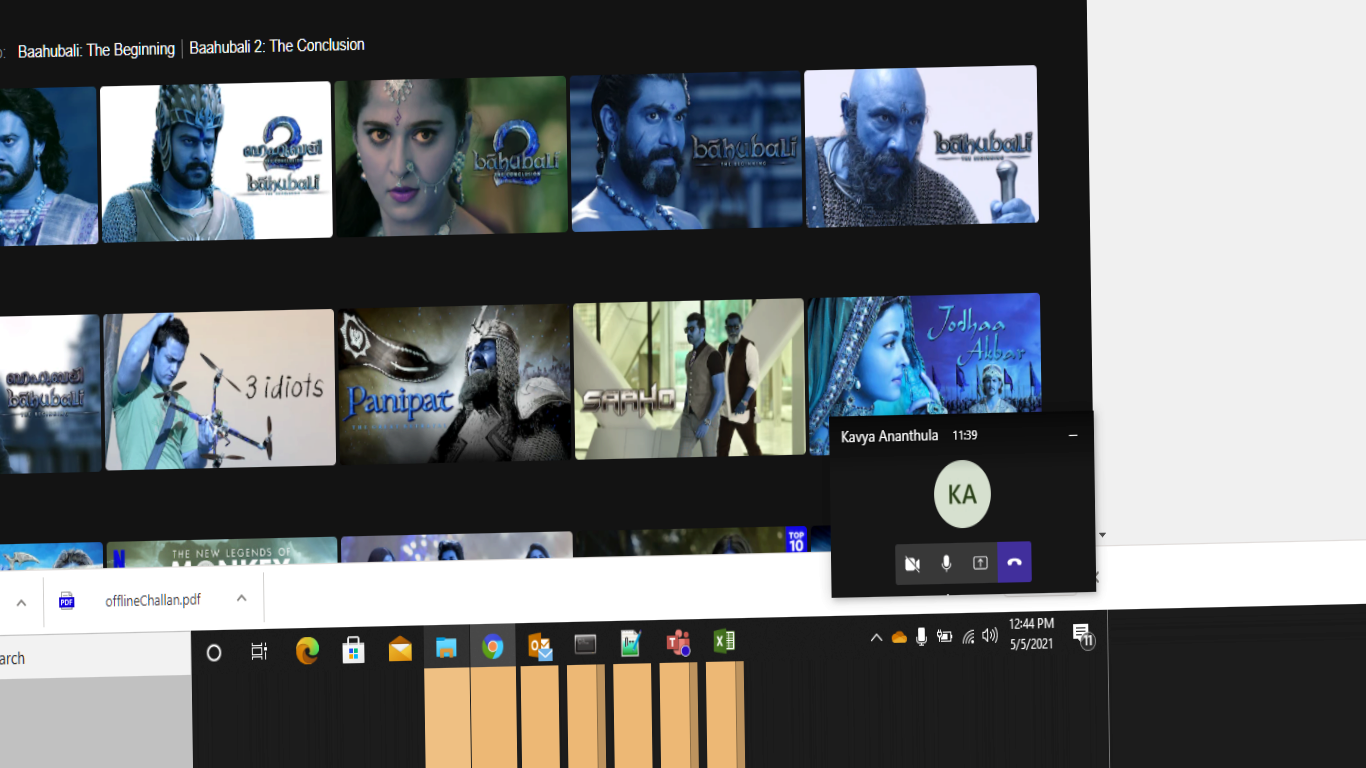resultsfound: (14, 27, 375, 68)
